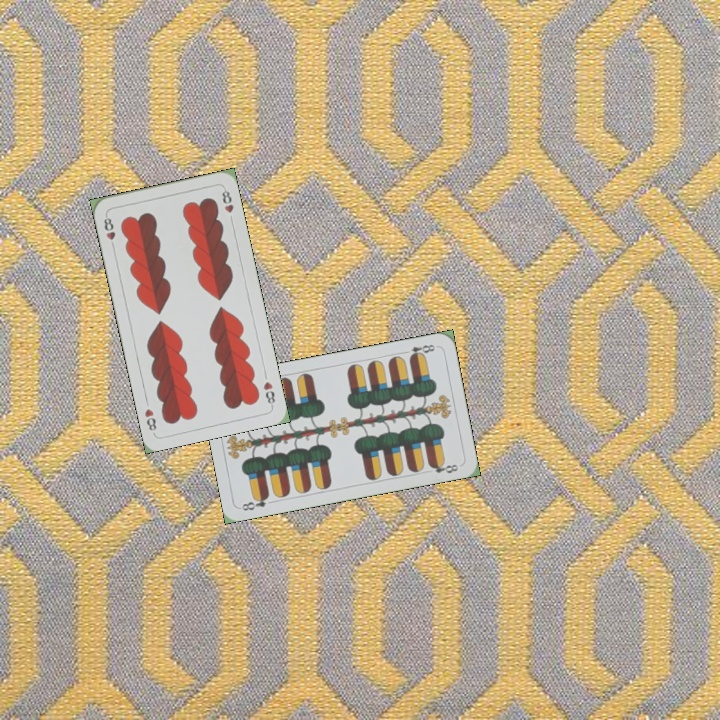E8: (399, 340, 438, 361), (238, 491, 272, 513)
H8: (100, 211, 118, 251), (259, 377, 278, 409)
